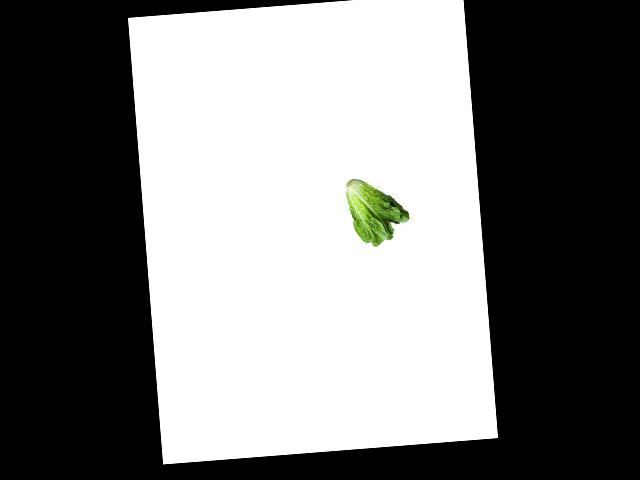lettuce: (341, 176, 415, 248)
